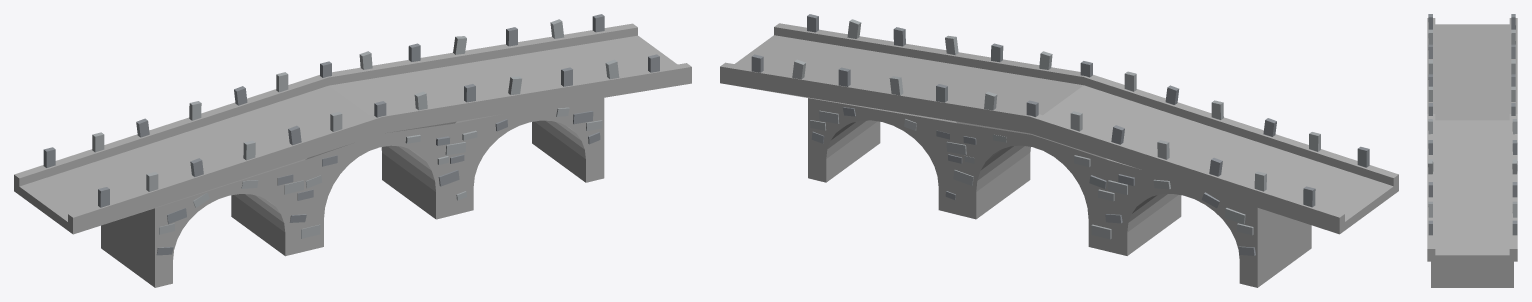
File: bridge.obj
The picture shows the model from 3 angles, left to right: view 1: azimuth 30°, elevation 25°; view 2: azimuth 150°, elevation 25°; view 3: azimuth 270°, elevation 25°; orthographic projection. The views are drawn at different scales.
Parts seen in each view (by area): view 1: bridge; view 2: bridge; view 3: bridge.
Part boxes in pixels (left/top/right/bottom): bridge: left=14, top=14, right=691, bottom=287; bridge: left=720, top=14, right=1398, bottom=287; bridge: left=1427, top=14, right=1517, bottom=287.
Bounding box in the file's own units: 13.21 × 2.66 × 2.19.
